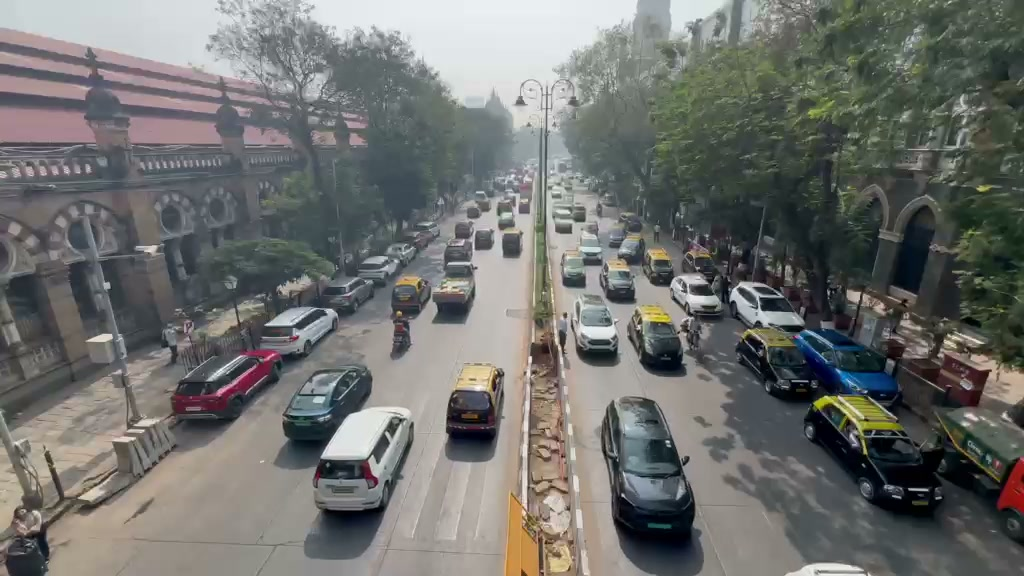car: (599, 395, 697, 541), (310, 405, 415, 513), (794, 328, 903, 407), (170, 349, 284, 420), (281, 364, 373, 442), (735, 325, 818, 400), (445, 362, 506, 439), (256, 305, 339, 359), (626, 304, 687, 370), (729, 281, 806, 331), (571, 301, 619, 359), (994, 456, 1024, 543), (669, 272, 726, 317), (317, 275, 375, 315), (432, 264, 476, 311), (391, 273, 432, 313), (357, 254, 403, 286), (598, 265, 636, 301), (785, 561, 872, 574), (578, 236, 603, 263)
pedestrian: (0, 508, 50, 576)
truck: (801, 393, 946, 513), (933, 402, 1023, 493)
